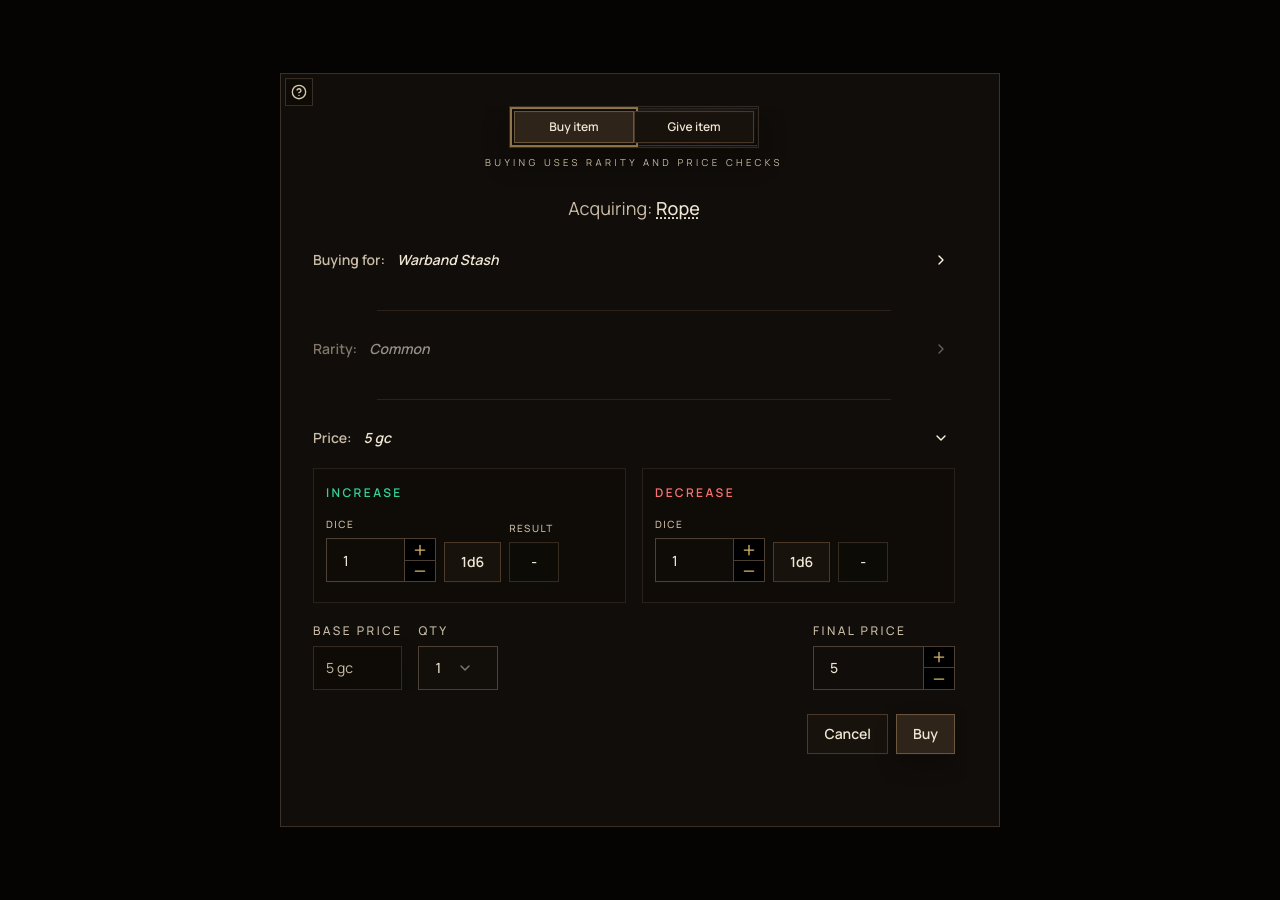
Test case: AcquireItemDialog: one request per purchase (BUG-07, ECON-PERF-01) › shows an archived_entry warning when the item was archived since the list was read: the purchase went ahead (CAT-TWEAK-04)
Step 1. Click the button "Buy" → (926, 734), box top-left (896, 714), bottom-right (955, 754)
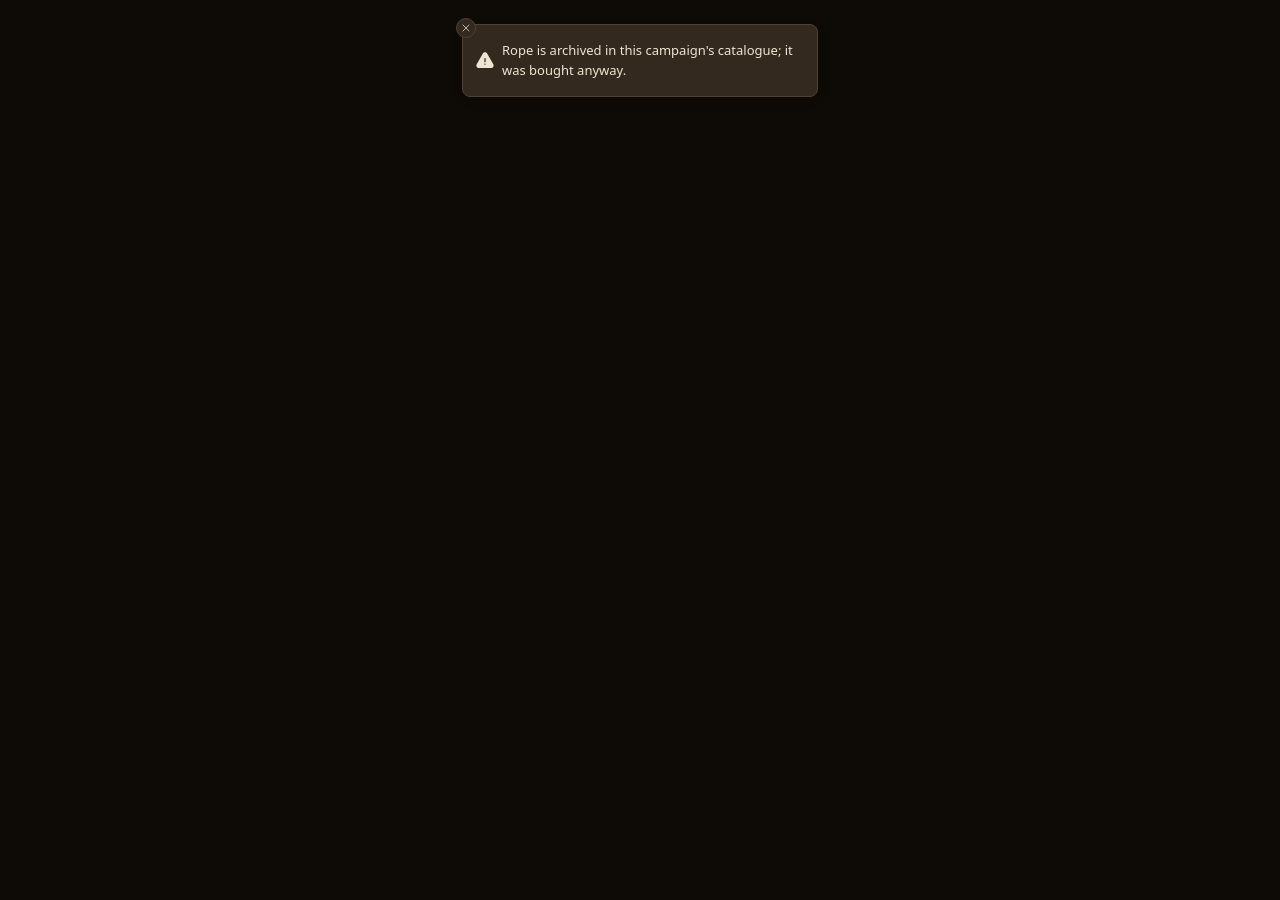
Result: the text "Rope is archived in this campaign's catalogue; it was bought anyway." is shown at top-left (502, 41), bottom-right (801, 80)
